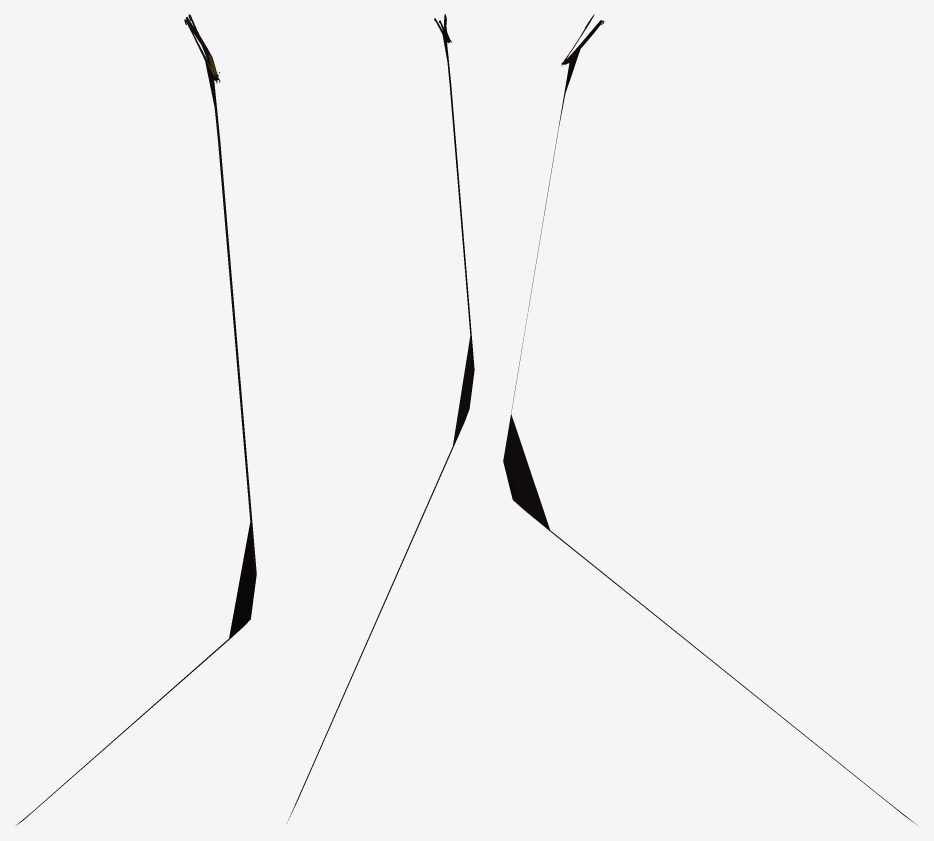
The model's file is Pet_Dragon.obj.
3 views of the same model, side by side, from view 1: azimuth 30°, elevation 25°; view 2: azimuth 150°, elevation 25°; view 3: azimuth 270°, elevation 25° (orthographic). The views are drawn at different scales.
Parts seen in each view (by area): view 1: Pet_Dragon; view 2: Pet_Dragon; view 3: Pet_Dragon.
Boxes of the visible parts, x1,y1,x2,y2 form: Pet_Dragon: [16, 14, 256, 825]; Pet_Dragon: [287, 14, 474, 822]; Pet_Dragon: [503, 14, 917, 825].
Bounding box in the file's own units: 3.16 × 129 × 60.49.
